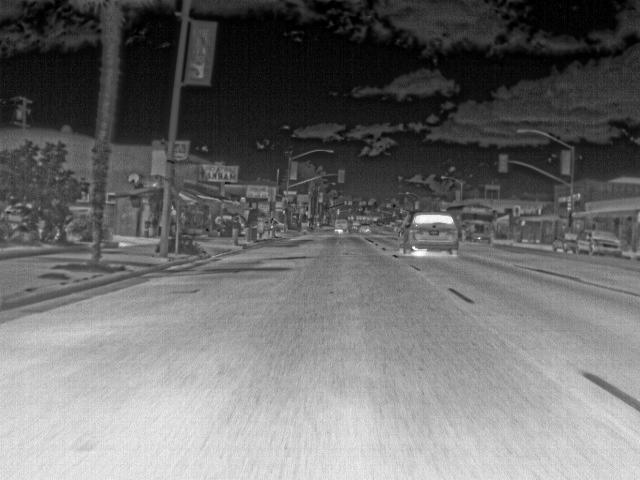car: (399, 209, 461, 257), (577, 228, 620, 256), (553, 233, 575, 255), (334, 218, 351, 234), (360, 222, 374, 234)
person: (231, 214, 243, 246)
